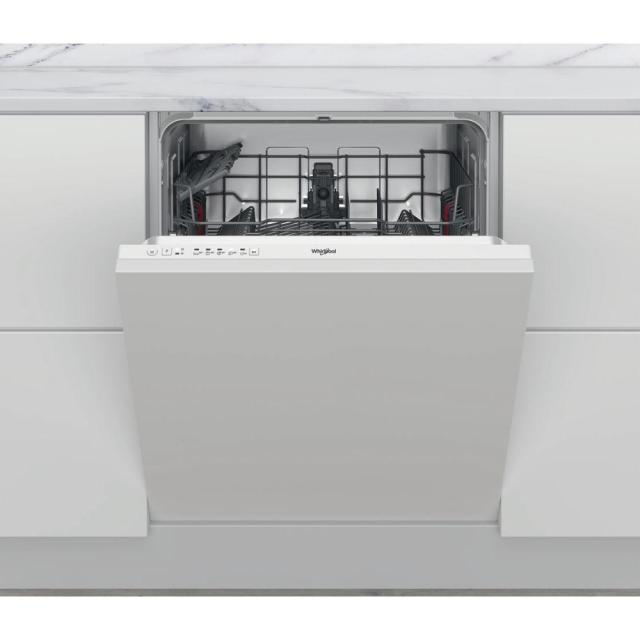dishwasher: (144, 102, 540, 535)
